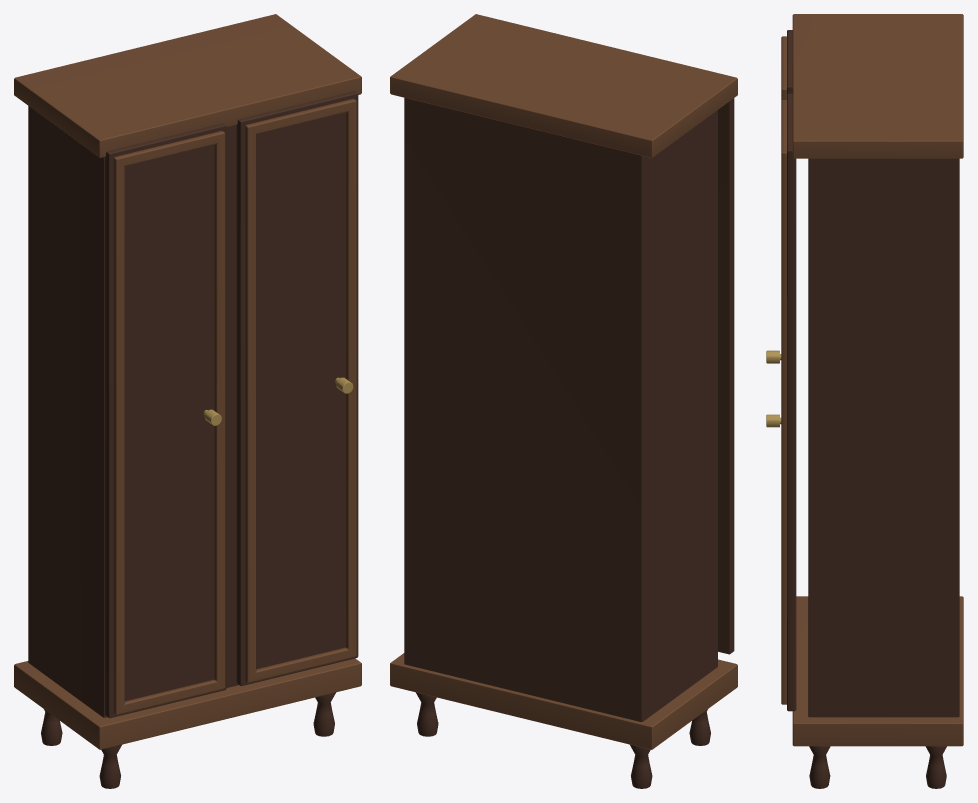
Rendered from rpg-mansion-linen-cabinet-01.glb.
3 views of the same model, side by side, from view 1: azimuth 30°, elevation 25°; view 2: azimuth 150°, elevation 25°; view 3: azimuth 270°, elevation 25° (orthographic).
Visible parts, largest first — view 1: rpg-mansion-linen-cabinet-01; view 2: rpg-mansion-linen-cabinet-01; view 3: rpg-mansion-linen-cabinet-01.
Part boxes in pixels (x1=…): rpg-mansion-linen-cabinet-01: x1=14, y1=14, x2=361, y2=788; rpg-mansion-linen-cabinet-01: x1=390, y1=14, x2=737, y2=788; rpg-mansion-linen-cabinet-01: x1=766, y1=14, x2=963, y2=788.
Size of the model in its own units: 0.75 by 1.8 by 0.49.
